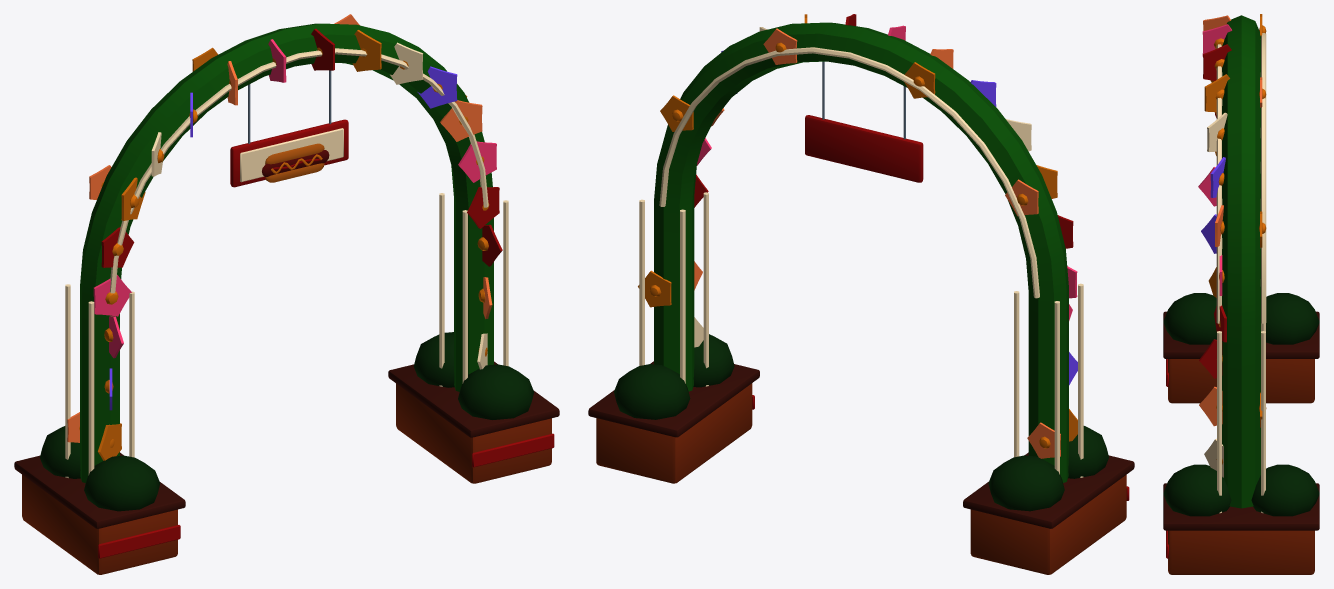
The model's file is FlowerArch.obj.
The picture shows the model from 3 angles, left to right: view 1: azimuth 30°, elevation 25°; view 2: azimuth 150°, elevation 25°; view 3: azimuth 270°, elevation 25°; orthographic projection. The views are drawn at different scales.
Parts seen in each view (by area): view 1: FlowerArch; view 2: FlowerArch; view 3: FlowerArch.
Boxes of the visible parts, box(x1,y1,x2,y2) form: FlowerArch: box(14, 14, 559, 574); FlowerArch: box(588, 14, 1134, 574); FlowerArch: box(1163, 14, 1319, 574).
Bounding box in the file's own units: 10.3 × 9.86 × 3.2.
